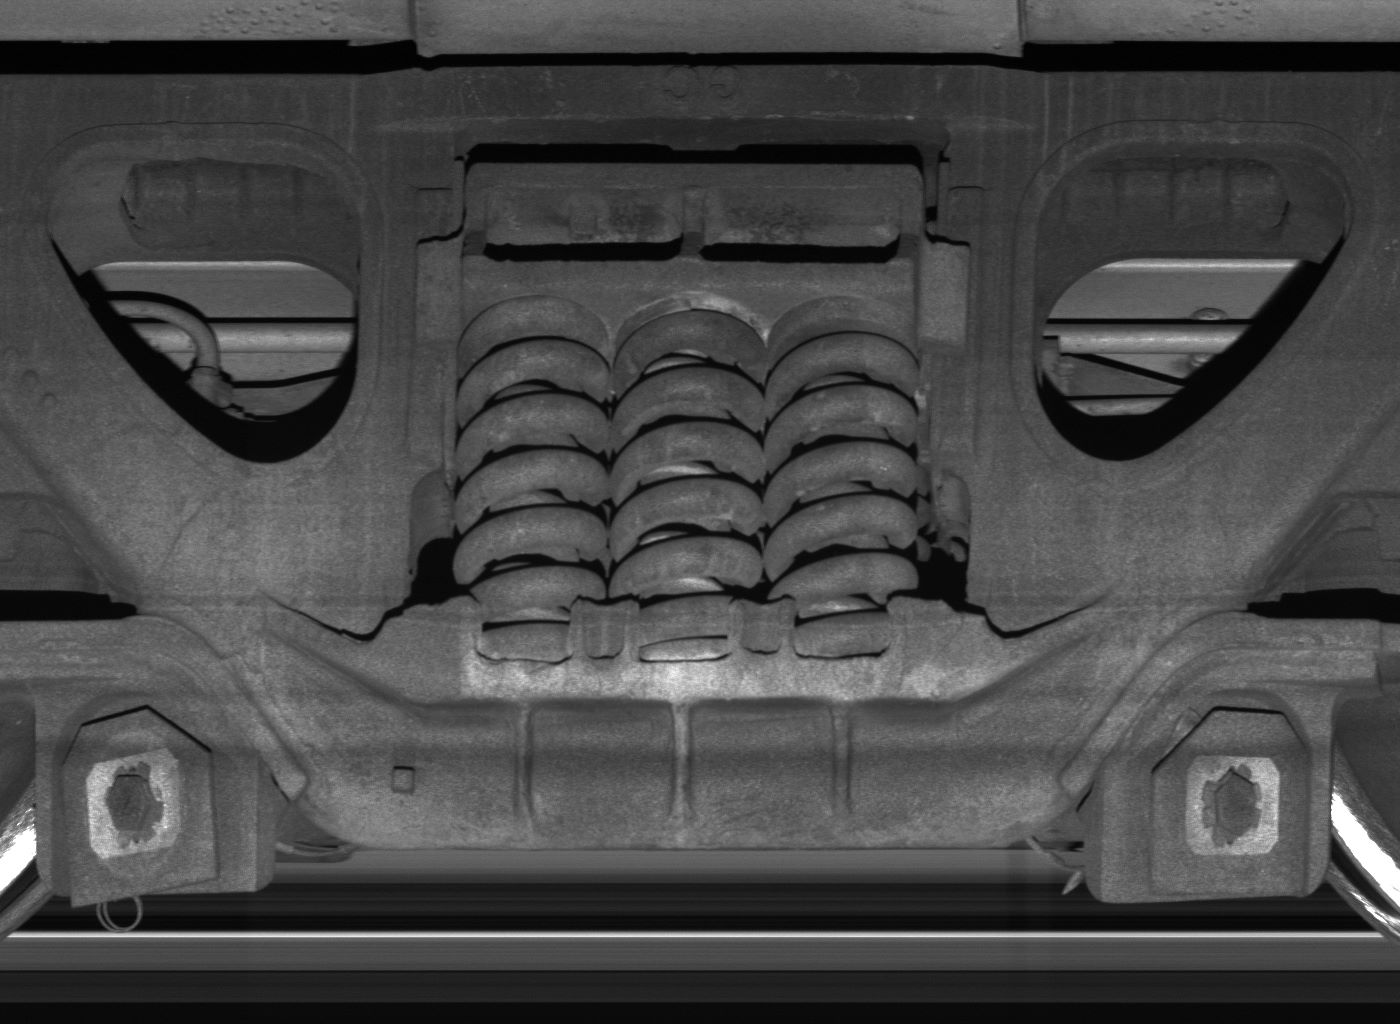Locking plate: (34, 691, 260, 906)
normal: (1103, 687, 1334, 906)
